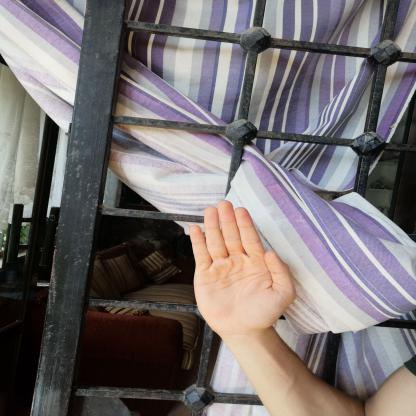SEEN: (173, 191, 301, 341)
